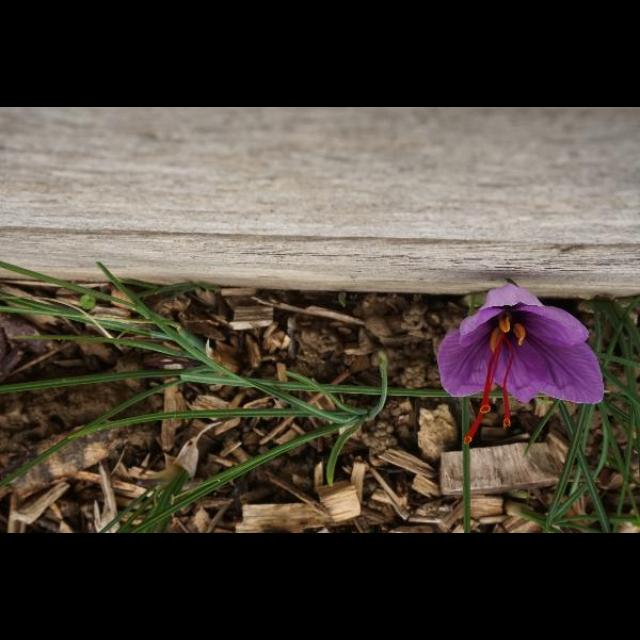flower: (434, 288, 604, 447)
